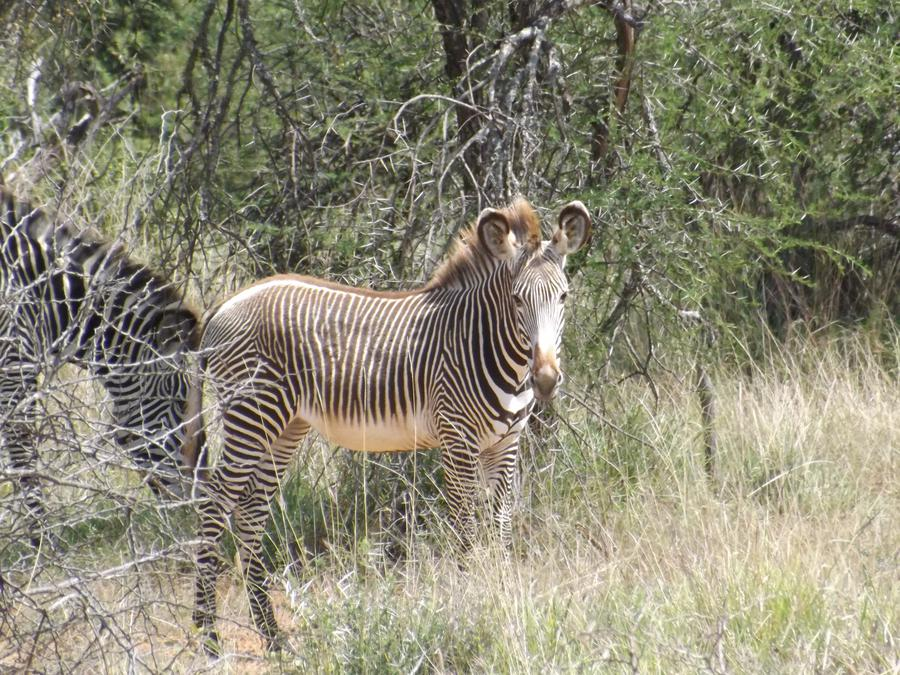zebra_grevys: (194, 251, 502, 448)
